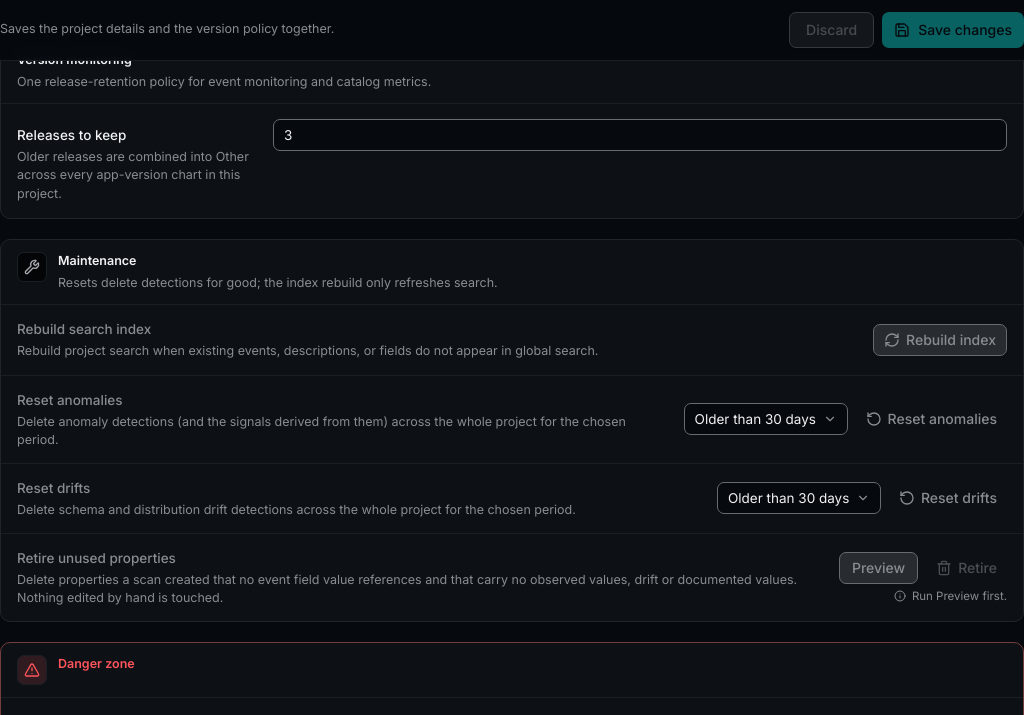
Scenario: ProjectGeneralSection — retire unused properties › shows a failed preview after an earlier retire, instead of the stale retire result
(page scrolled)
Click the button "Preview" at [879, 568], box [839,552,918,584]
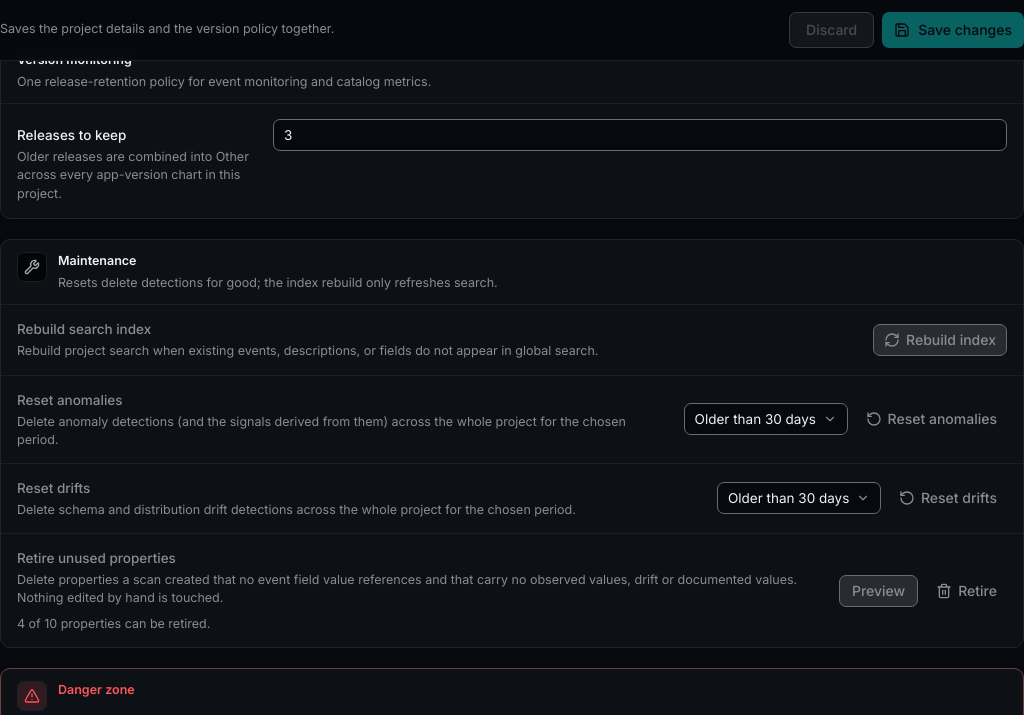
Now the text "4 of 10 properties can be retired." is shown, box [17,616,210,631]
Click the button "Retire" at [967, 590], box [926,574,1007,606]
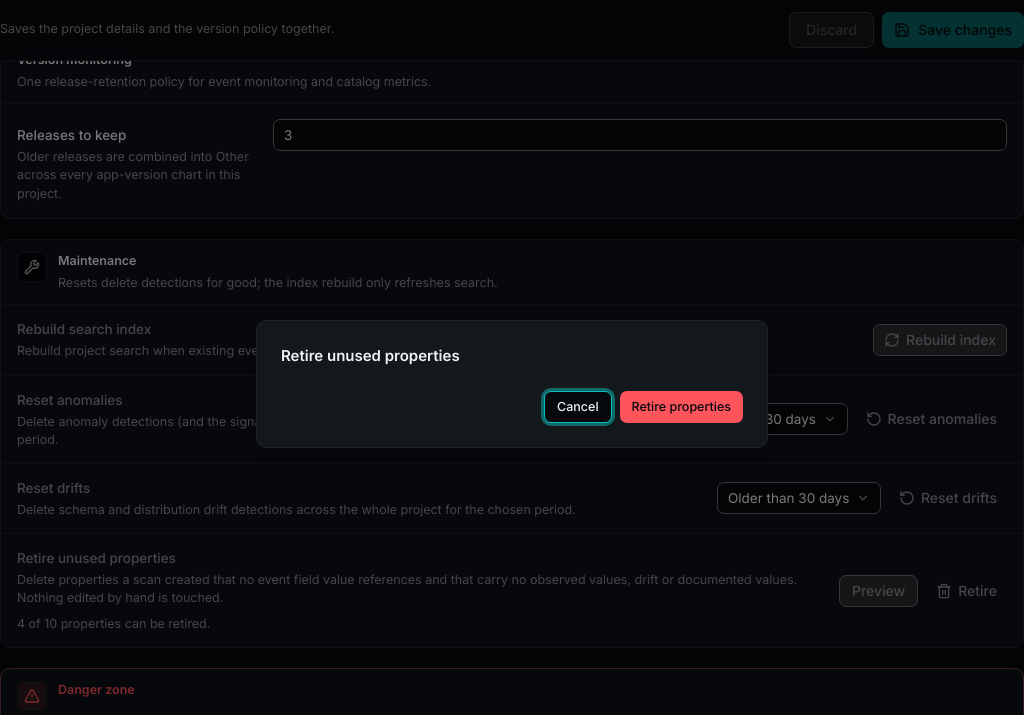
Click the button "Retire properties" at [681, 407], box [620,391,743,423]
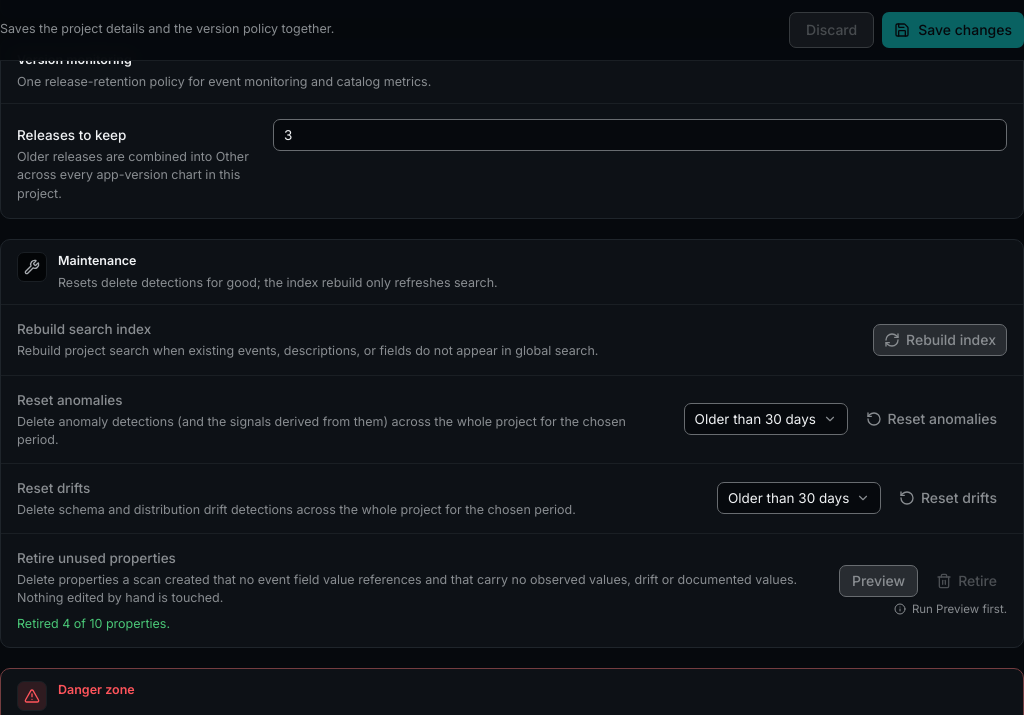
Now the text "Retired 4 of 10 properties." is shown, box [17,616,170,631]
Click the button "Preview" at [879, 580], box [839,564,918,596]
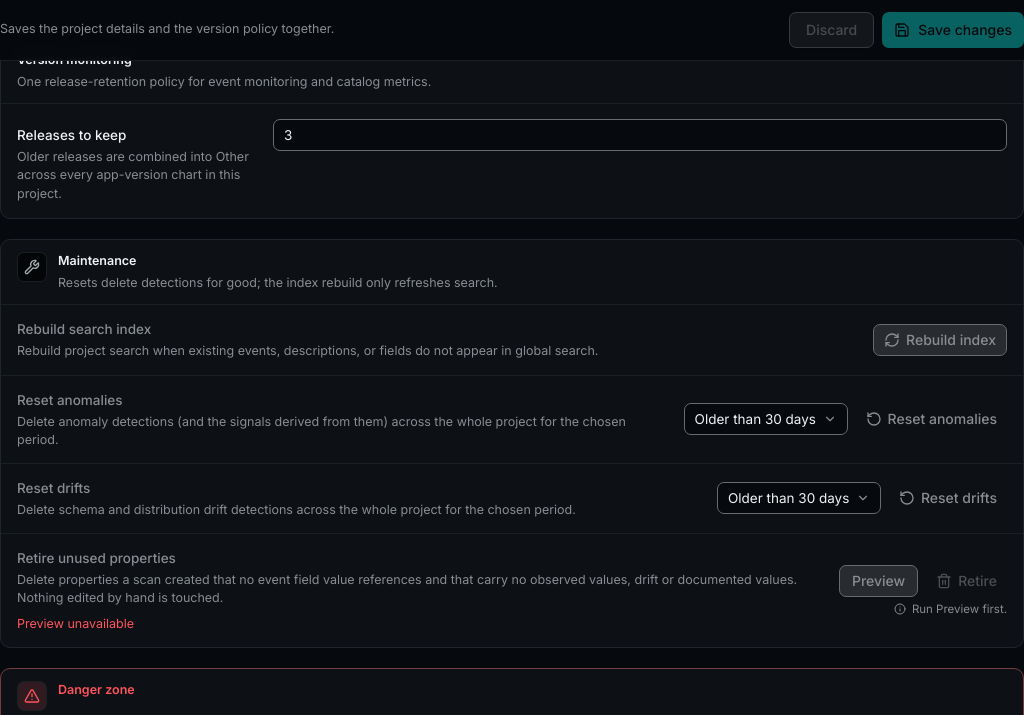
Now the text "Preview unavailable" is shown, box [17,616,134,631]
Now the text "Retired 4 of 10 properties." is gone
